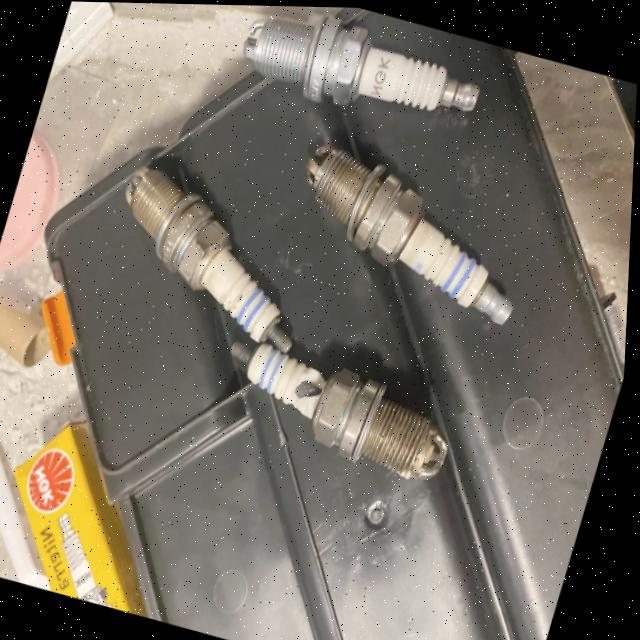damaged_spark-plug: (222, 330, 457, 490)
spark-plug: (268, 131, 556, 337), (110, 145, 305, 366), (228, 4, 495, 137)
